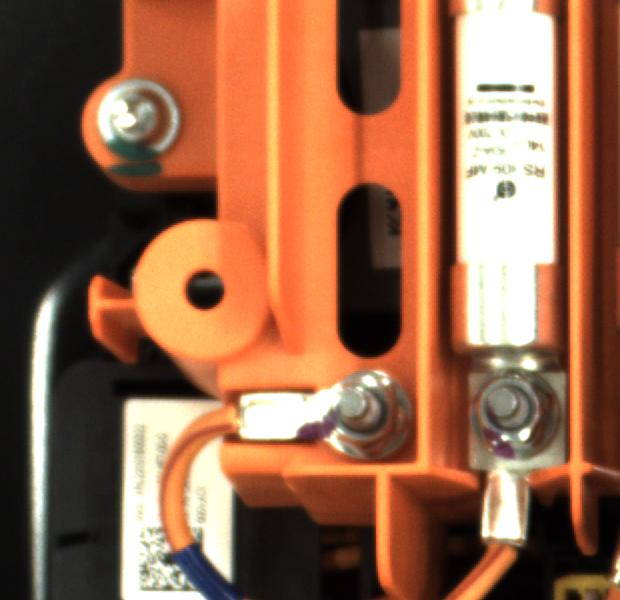screw_m: (83, 72, 193, 170)
screw_s: (322, 359, 419, 470), (470, 369, 565, 460)
